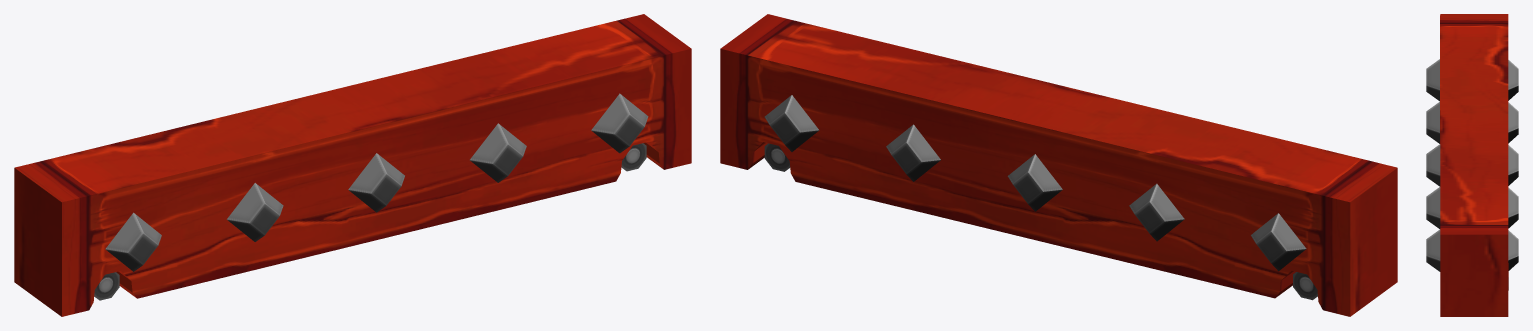
Rendered from dynamic_fence_rad_03.fbx.
3 renders of one model, left to right at view 1: azimuth 30°, elevation 25°; view 2: azimuth 150°, elevation 25°; view 3: azimuth 270°, elevation 25°, orthographic. The views are drawn at different scales.
Visible parts, largest first — view 1: dynamic_fence_rad_03; view 2: dynamic_fence_rad_03; view 3: dynamic_fence_rad_03.
Boxes of the visible parts, x1,y1,x2,y2 form: dynamic_fence_rad_03: (14, 14, 691, 316); dynamic_fence_rad_03: (720, 14, 1397, 316); dynamic_fence_rad_03: (1426, 14, 1518, 316).
Size of the model in its own units: 230 by 40 by 40.76.
